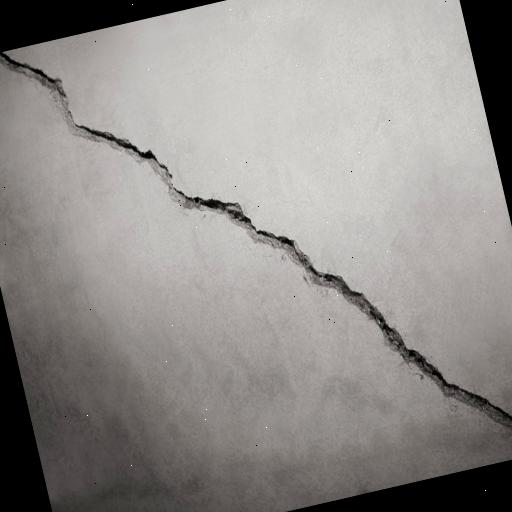spalling: (0, 51, 512, 437)
